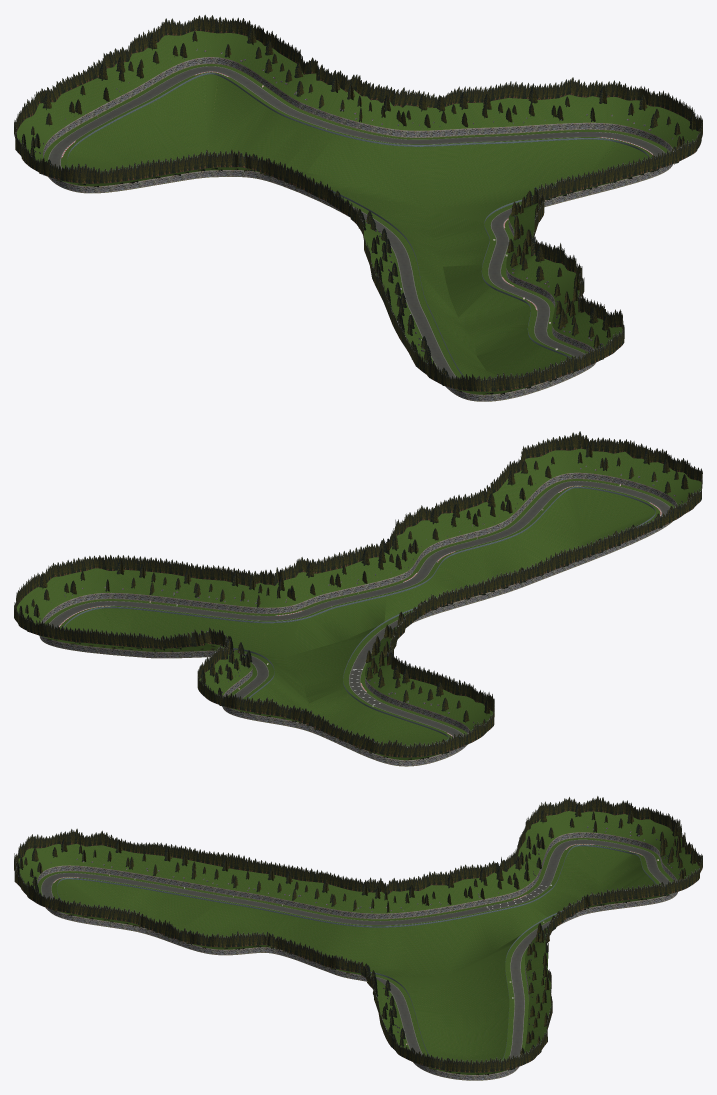
The picture shows the model from 3 angles, top to bottom: view 1: azimuth 30°, elevation 25°; view 2: azimuth 150°, elevation 25°; view 3: azimuth 270°, elevation 25°; orthographic projection. The views are drawn at different scales.
Visible parts, largest first — view 1: RaceTrack_Main, RaceTrack_Inside, RaceTrack_Trees; view 2: RaceTrack_Main, RaceTrack_Inside, RaceTrack_Trees; view 3: RaceTrack_Main, RaceTrack_Inside, RaceTrack_Trees.
Boxes of the visible parts, <box> form: RaceTrack_Main: <box>14,14,702,401</box>; RaceTrack_Inside: <box>67,74,648,380</box>; RaceTrack_Trees: <box>21,26,695,394</box>; RaceTrack_Main: <box>14,431,702,766</box>; RaceTrack_Inside: <box>63,488,655,747</box>; RaceTrack_Trees: <box>19,442,692,759</box>; RaceTrack_Main: <box>14,796,702,1080</box>; RaceTrack_Inside: <box>57,846,655,1063</box>; RaceTrack_Trees: <box>16,804,695,1075</box>.
Size of the model in its own units: 523 by 104 by 662.
